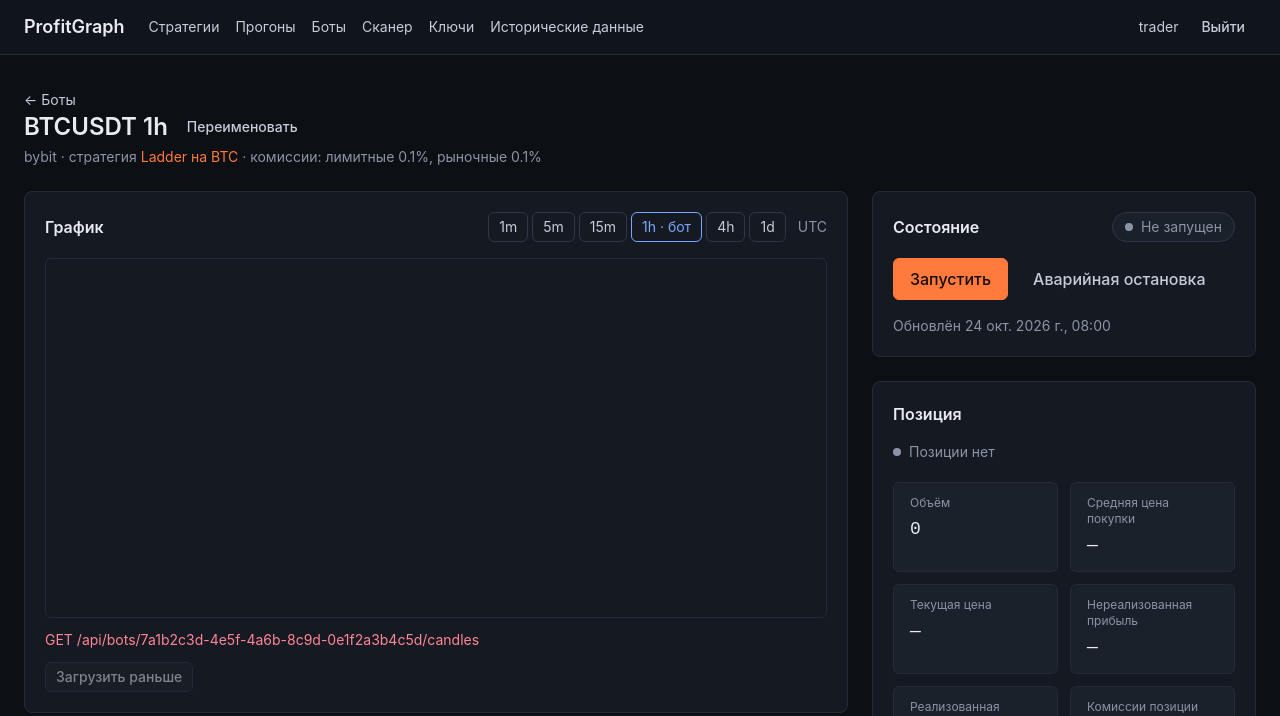
Test: bots › starts a bot and kills it only after confirming
This screenshot has width=1280, height=716.
What coordinates should you click on to do the following:
click the button "Запустить"
I would click on:
 (950, 279)
Its box is top-left (893, 258), bottom-right (1008, 300).
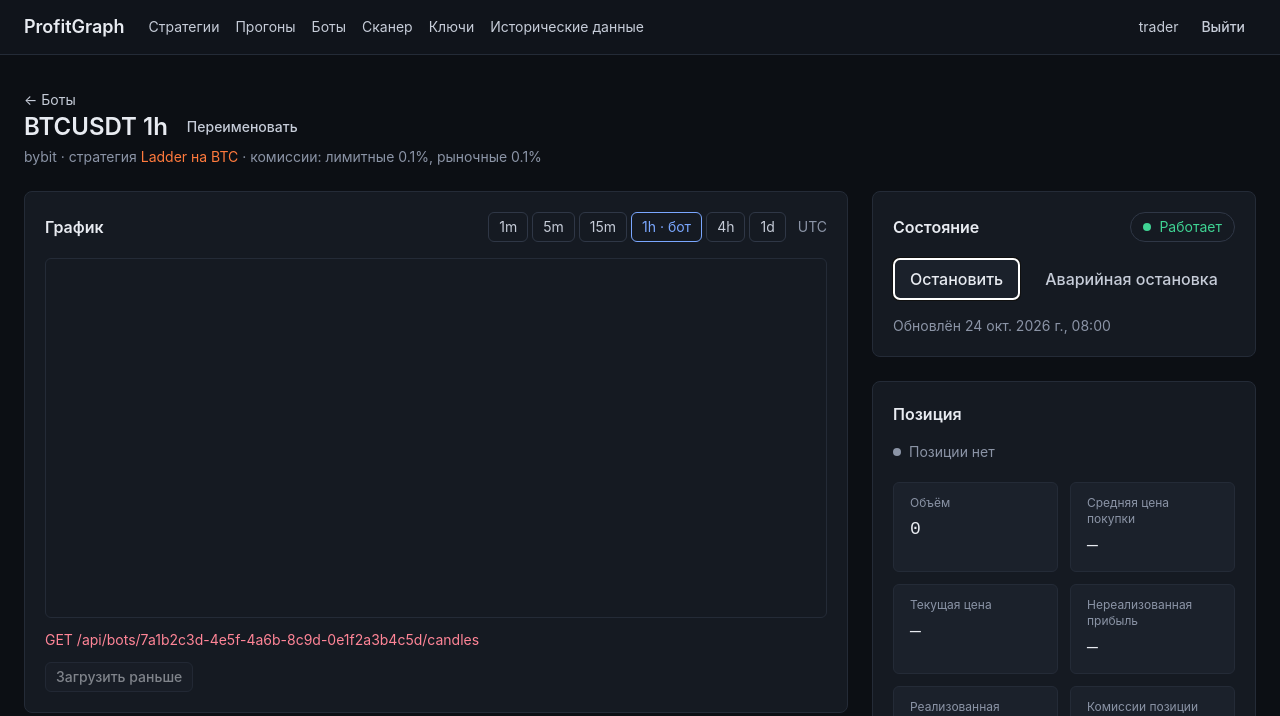
Expected: the text "Работает" is shown, top-left (1130, 212), bottom-right (1235, 242)
What coordinates should you click on to do the following:
click the button "Аварийная остановка"
I would click on:
 (1131, 279)
Its box is top-left (1028, 258), bottom-right (1235, 300).
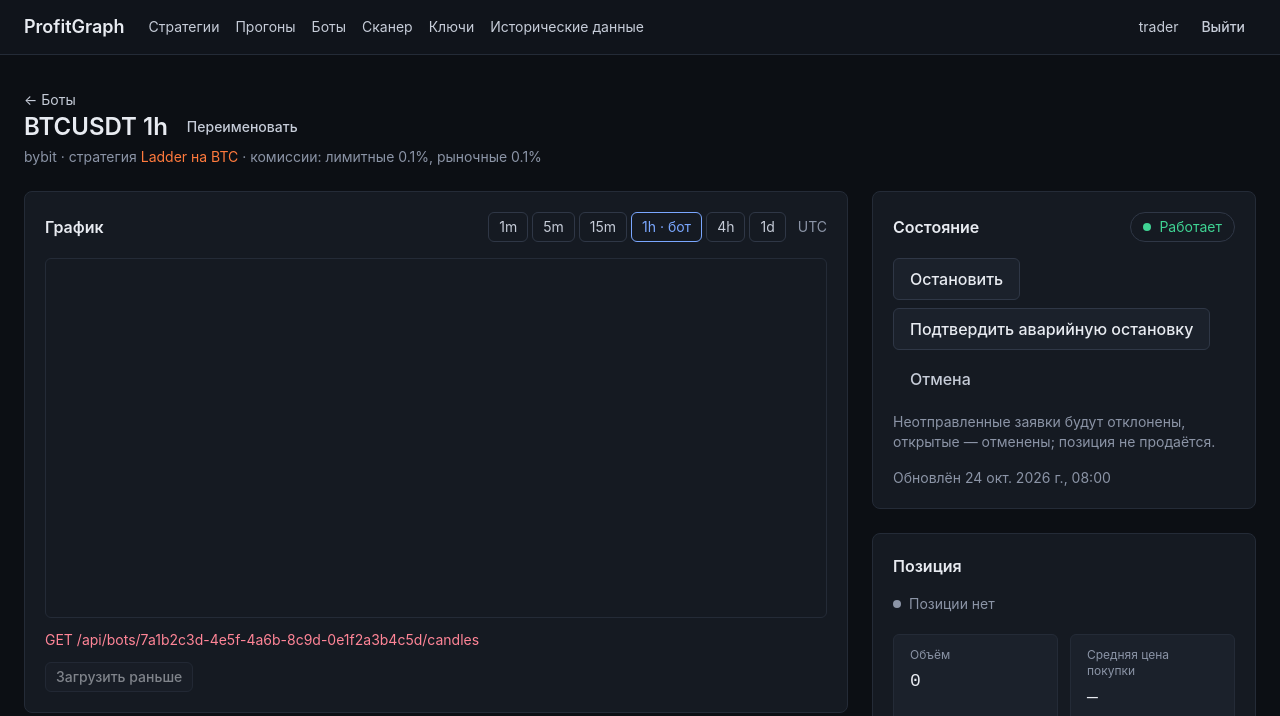
Expected: the text "позиция не продаётся" is shown, top-left (893, 413), bottom-right (1215, 450)
What coordinates should you click on to do the following:
click the button "Подтвердить аварийную остановку"
I would click on:
 (1052, 329)
Its box is top-left (893, 308), bottom-right (1210, 350).
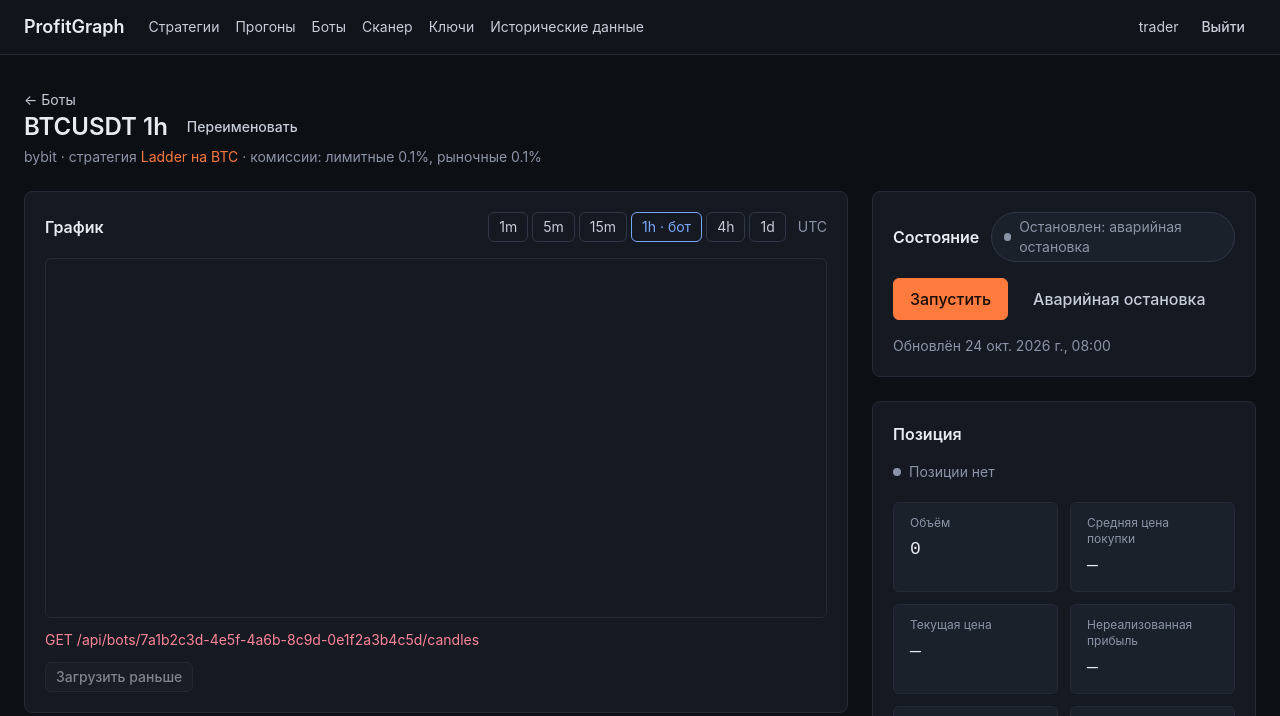
Expected: the text "Остановлен: аварийная остановка" is shown, top-left (991, 212), bottom-right (1235, 262)
